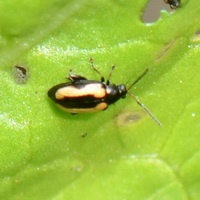insect: (48, 58, 147, 113)
